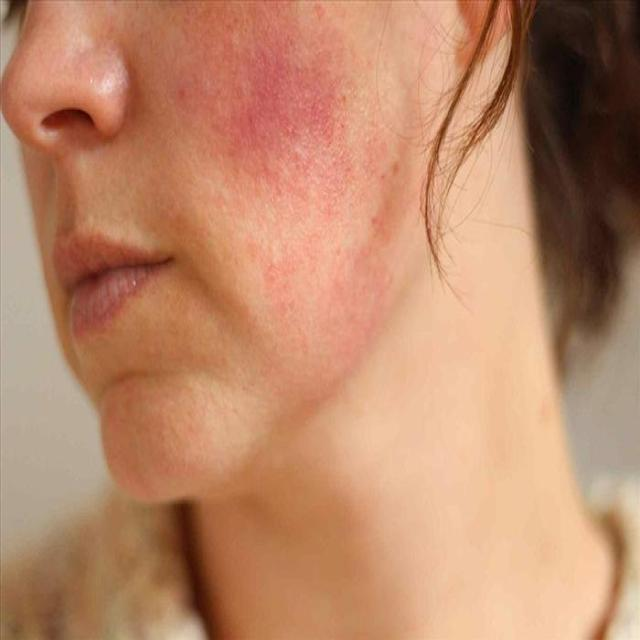skinredness: (215, 0, 356, 196)
